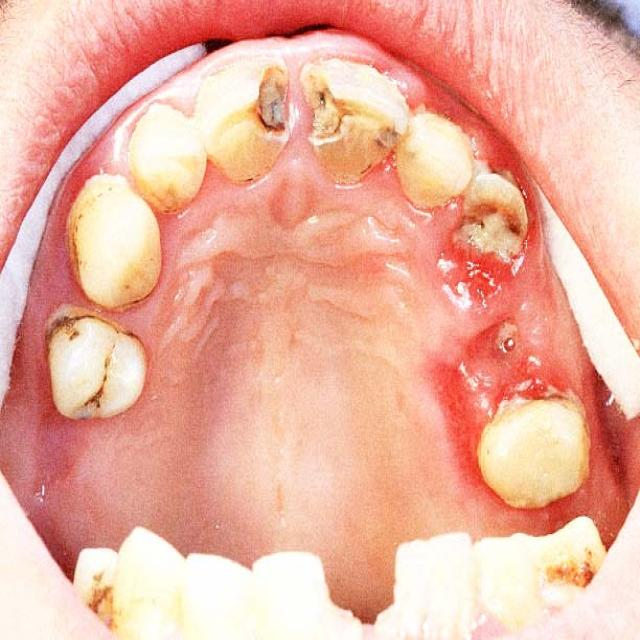caries: (301, 62, 401, 165), (452, 163, 530, 261), (236, 51, 297, 149), (69, 358, 121, 424)
